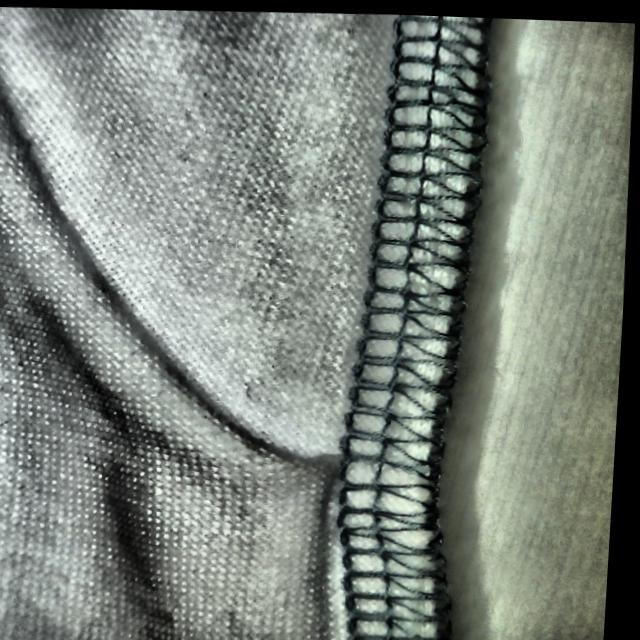seam: (242, 404, 486, 575)
